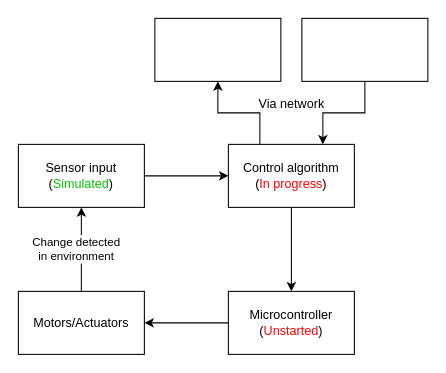
This 446x373 diagram has some shape labels left out. Here are the shapes that lost their labels. From the top down, the box of each, then its label:
(154, 17, 281, 81): Visualisation ( Functional, network limits need tested )
(301, 17, 428, 81): Teleoperation ( Functional, performance issues )
